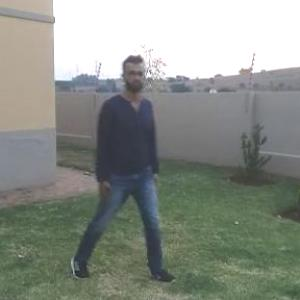follow: (93, 61, 155, 244)
